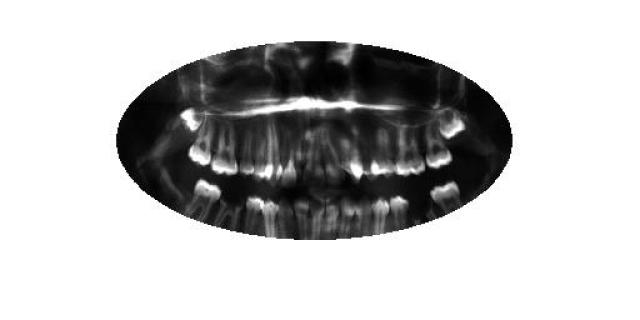Cavity: (215, 195, 246, 231), (408, 195, 438, 226)
